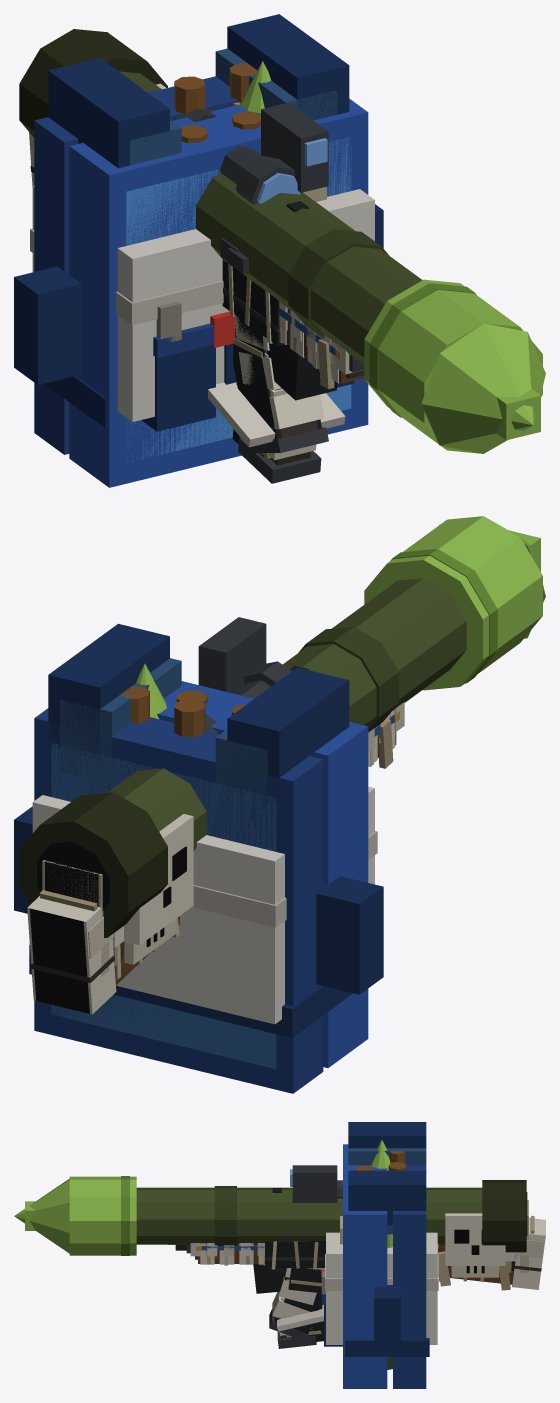
The model's file is dd_items.glb.
3 renders of one model, top to bottom at view 1: azimuth 30°, elevation 25°; view 2: azimuth 150°, elevation 25°; view 3: azimuth 270°, elevation 25°, orthographic. The views are drawn at different scales.
Visible parts, largest first — view 1: DUBG_item_vest2, DUBG_gun_rpg_base, DUBG_item_med, DUBG_item_vest1, DUBG_gun_rifle_base, DUBG_gun_smg_base, DUBG_gun_rifle_skeleton, DUBG_item_band, DUBG_item_ammo, DUBG_gun_shotgun_skeleton, DUBG_gun_smg_skeleton, DUBG_gun_smg_mummy (+3 smaller); view 2: DUBG_item_vest2, DUBG_gun_rpg_base, DUBG_item_vest1, DUBG_item_med, DUBG_gun_rifle_skeleton, DUBG_gun_shotgun_base, DUBG_gun_shotgun_skeleton, DUBG_gun_rifle_base, DUBG_item_ammo, DUBG_gun_shotgun_mummy, DUBG_gun_rifle_mummy; view 3: DUBG_gun_rpg_base, DUBG_item_vest2, DUBG_gun_rifle_skeleton, DUBG_item_med, DUBG_gun_shotgun_skeleton, DUBG_gun_smg_base, DUBG_gun_rifle_base, DUBG_item_vest1, DUBG_gun_shotgun_mummy, DUBG_gun_shotgun_base, DUBG_item_band, DUBG_gun_rifle_mummy (+4 smaller).
Boxes of the visible parts, left/top/right/bottom form: DUBG_item_vest2: left=14, top=14, right=383, bottom=487; DUBG_gun_rpg_base: left=19, top=29, right=545, bottom=453; DUBG_item_med: left=30, top=185, right=374, bottom=421; DUBG_item_vest1: left=126, top=48, right=351, bottom=461; DUBG_gun_rifle_base: left=175, top=108, right=364, bottom=453; DUBG_gun_smg_base: left=222, top=201, right=321, bottom=483; DUBG_gun_rifle_skeleton: left=156, top=83, right=363, bottom=437; DUBG_item_band: left=208, top=382, right=345, bottom=447; DUBG_item_ammo: left=174, top=63, right=260, bottom=142; DUBG_gun_shotgun_skeleton: left=29, top=132, right=364, bottom=383; DUBG_gun_smg_skeleton: left=223, top=287, right=316, bottom=465; DUBG_gun_smg_mummy: left=228, top=264, right=272, bottom=458; DUBG_item_vest2: left=14, top=623, right=383, bottom=1093; DUBG_gun_rpg_base: left=19, top=516, right=545, bottom=937; DUBG_item_vest1: left=51, top=658, right=276, bottom=1069; DUBG_item_med: left=32, top=786, right=377, bottom=1024; DUBG_gun_rifle_skeleton: left=42, top=702, right=404, bottom=976; DUBG_gun_shotgun_base: left=29, top=725, right=396, bottom=1013; DUBG_gun_shotgun_skeleton: left=27, top=709, right=395, bottom=1014; DUBG_gun_rifle_base: left=45, top=661, right=291, bottom=957; DUBG_item_ammo: left=121, top=686, right=246, bottom=737; DUBG_gun_shotgun_mummy: left=39, top=711, right=399, bottom=979; DUBG_gun_rifle_mummy: left=113, top=719, right=393, bottom=965; DUBG_gun_rpg_base: left=14, top=1165, right=527, bottom=1293; DUBG_item_vest2: left=321, top=1122, right=429, bottom=1388; DUBG_gun_rifle_skeleton: left=190, top=1200, right=528, bottom=1320; DUBG_item_med: left=321, top=1232, right=438, bottom=1344; DUBG_gun_shotgun_skeleton: left=195, top=1218, right=545, bottom=1289; DUBG_gun_smg_base: left=265, top=1188, right=325, bottom=1348; DUBG_gun_rifle_base: left=186, top=1180, right=515, bottom=1341; DUBG_item_vest1: left=348, top=1148, right=426, bottom=1234; DUBG_gun_shotgun_mummy: left=196, top=1215, right=534, bottom=1290; DUBG_gun_shotgun_base: left=175, top=1244, right=515, bottom=1284; DUBG_item_band: left=277, top=1305, right=323, bottom=1331; DUBG_gun_rifle_mummy: left=290, top=1251, right=511, bottom=1286.
Bounding box in the file's own units: 19.96 × 19.82 × 47.72.
